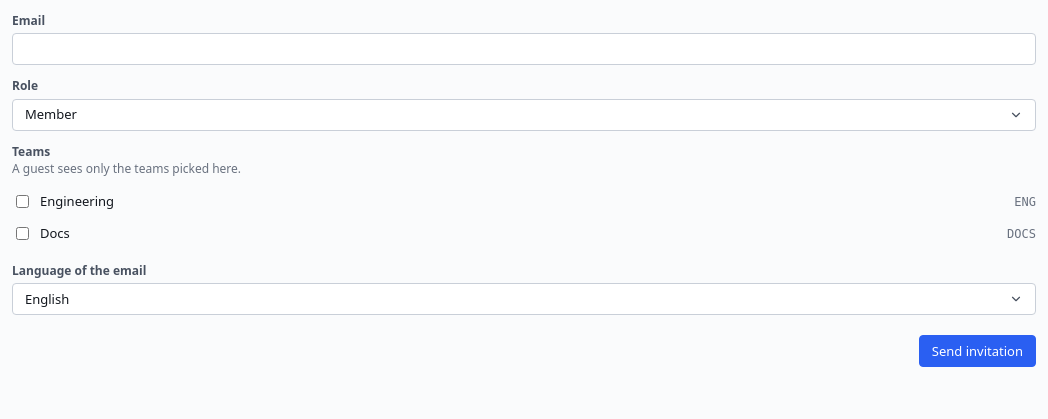
InvitePanel › blocks a guest without a team and says why
Type "new-guest@example.test" into the field labelled "Email" at (524, 49), box [12,33,1036,65]
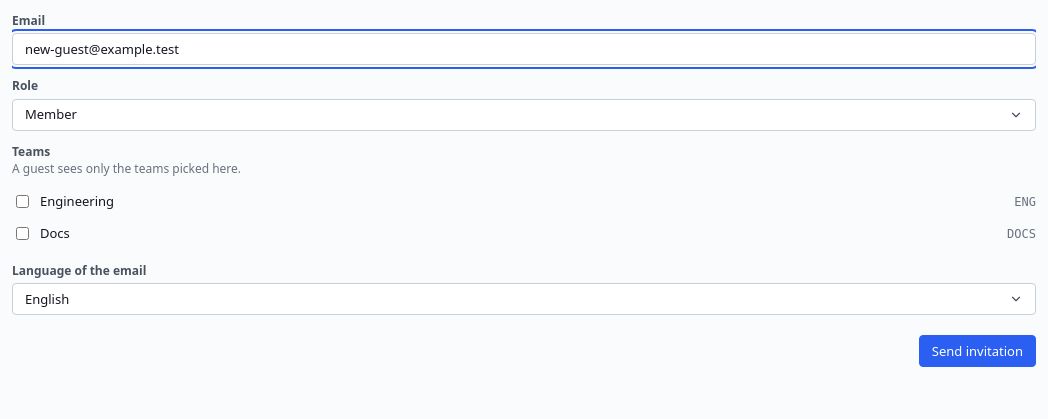
Click the dropdown named "Role" at (51, 114), box [12,99,1036,131]
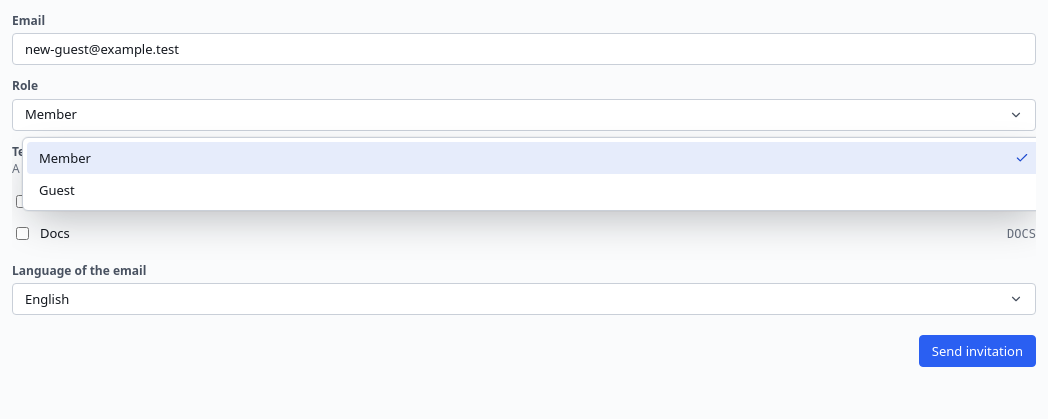
Click the option "Guest" at (57, 190), box [39,181,75,199]
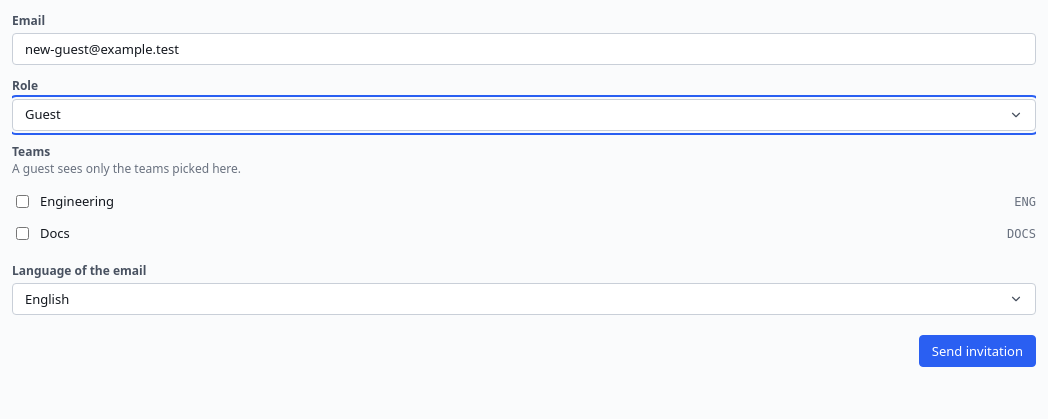
Click the button "Send invitation" at (977, 351), box [919,335,1036,367]
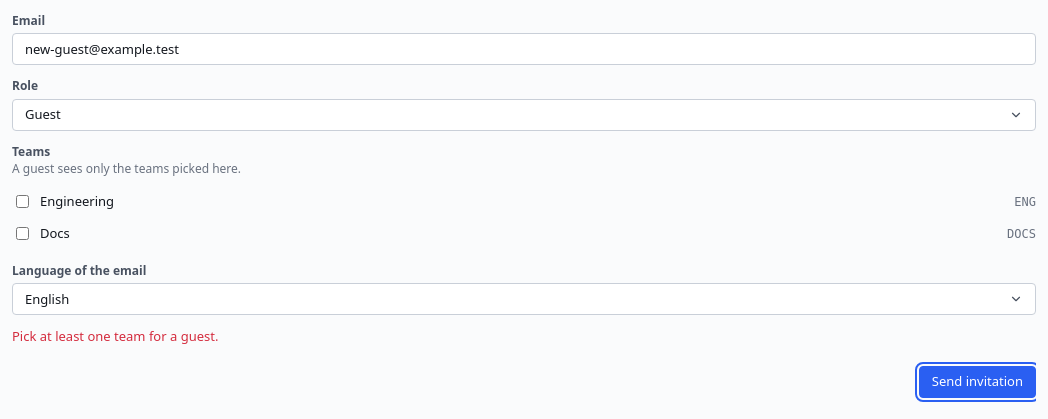
Expected: the message reads "Pick at least one team for a guest.", [12,327,218,345]
